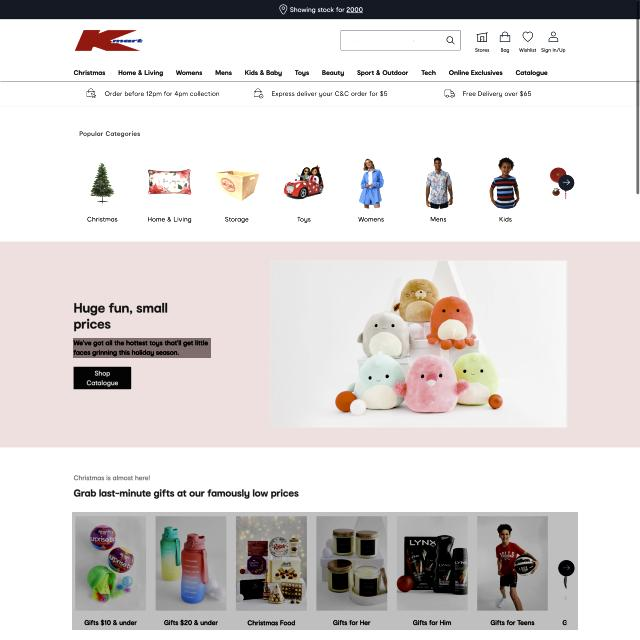CheckBox: (73, 366, 131, 390)
CheckedTextView: (340, 28, 462, 52)
EditText-: (75, 84, 545, 104)
Input field: (72, 512, 578, 630), (73, 338, 211, 358)
bag: (0, 0, 636, 106)
breadcrumbs: (78, 127, 143, 140)
copy: (270, 260, 568, 428)
date picker: (74, 26, 146, 56)
decoration: (73, 151, 589, 229), (72, 66, 552, 79)
footer: (342, 34, 434, 46)
